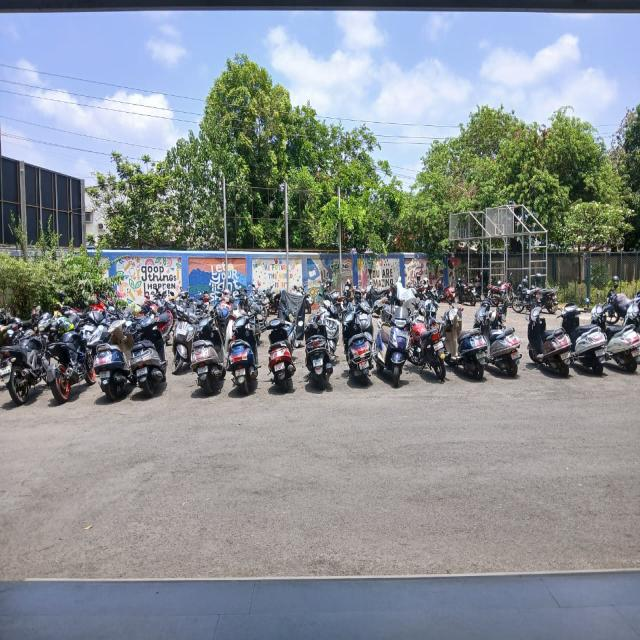Legalparking: (0, 279, 640, 443)
